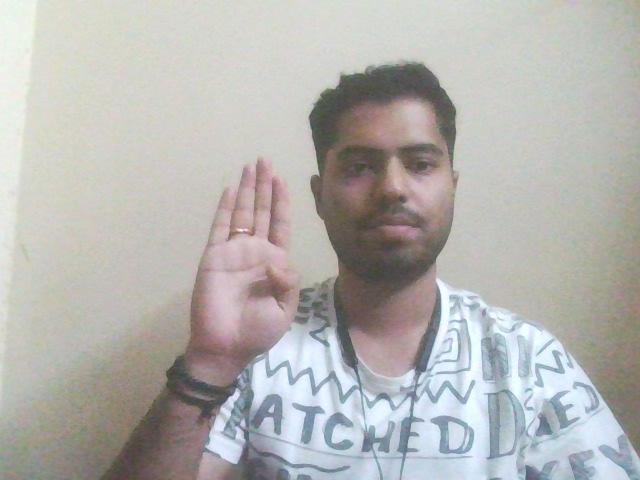IloveYou: (179, 140, 323, 372)
